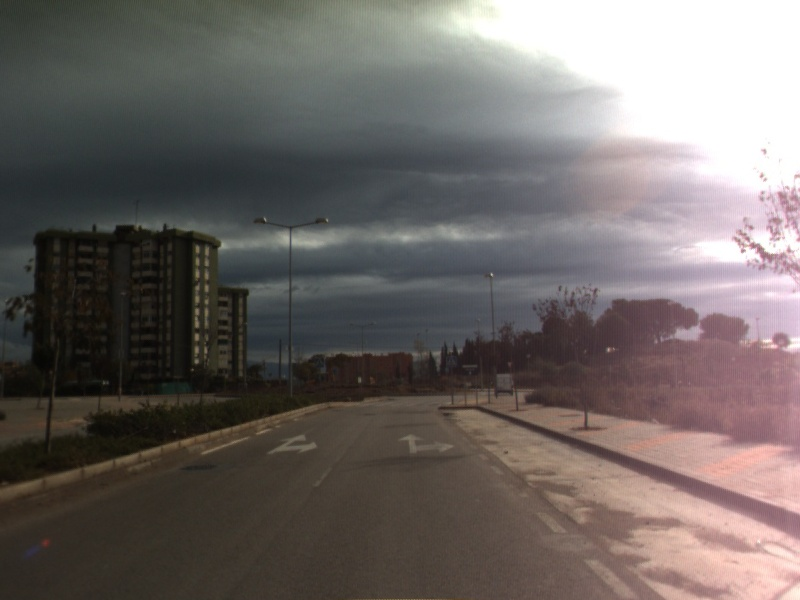STRAIGHT_RIGHT: (396, 432, 457, 455), (265, 432, 319, 456)
